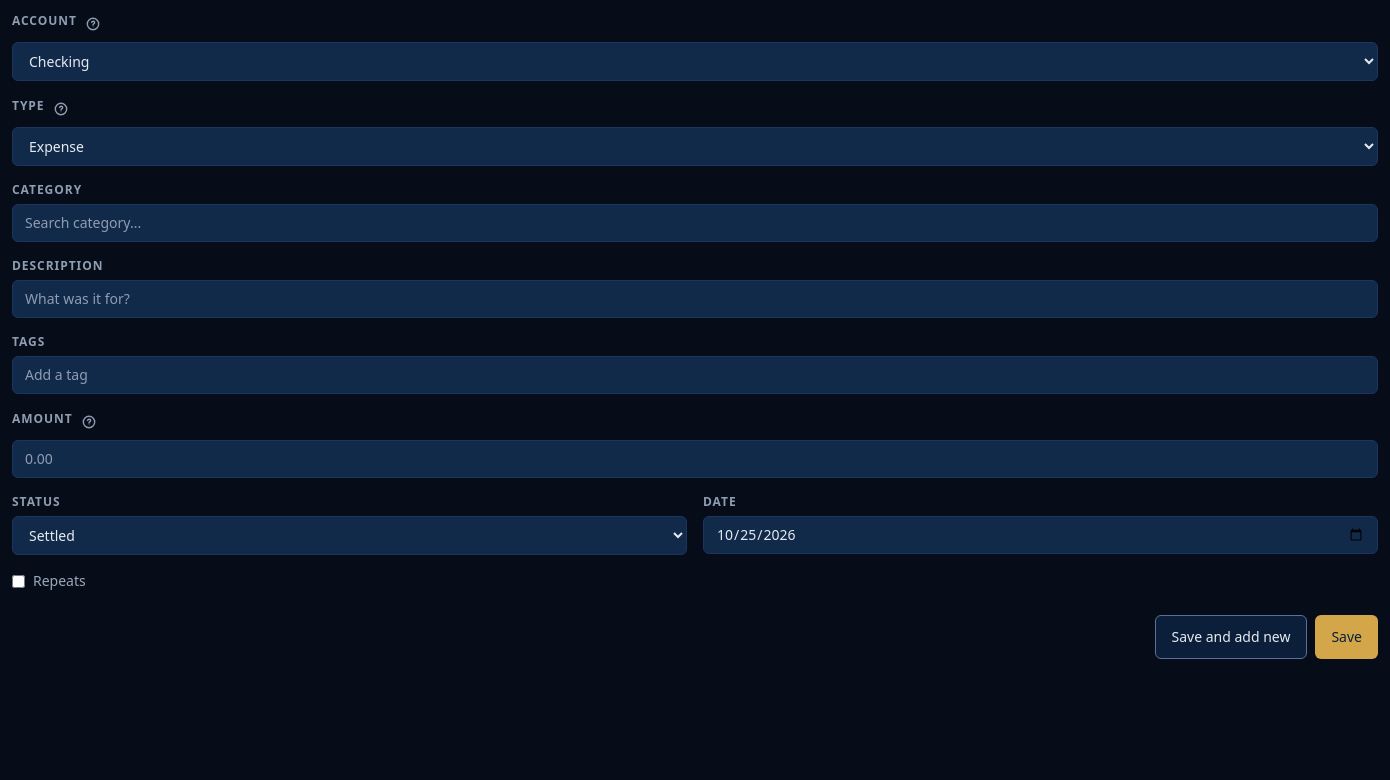
Scenario: TransactionForm › flips status to pending when a credit-card account is selected
Check: the dropdown labelled "Status" shows "Settled", box [12,516,687,555]
Select "Visa" in the dropdown labelled "Account": (695, 62) [12,42,1378,81]
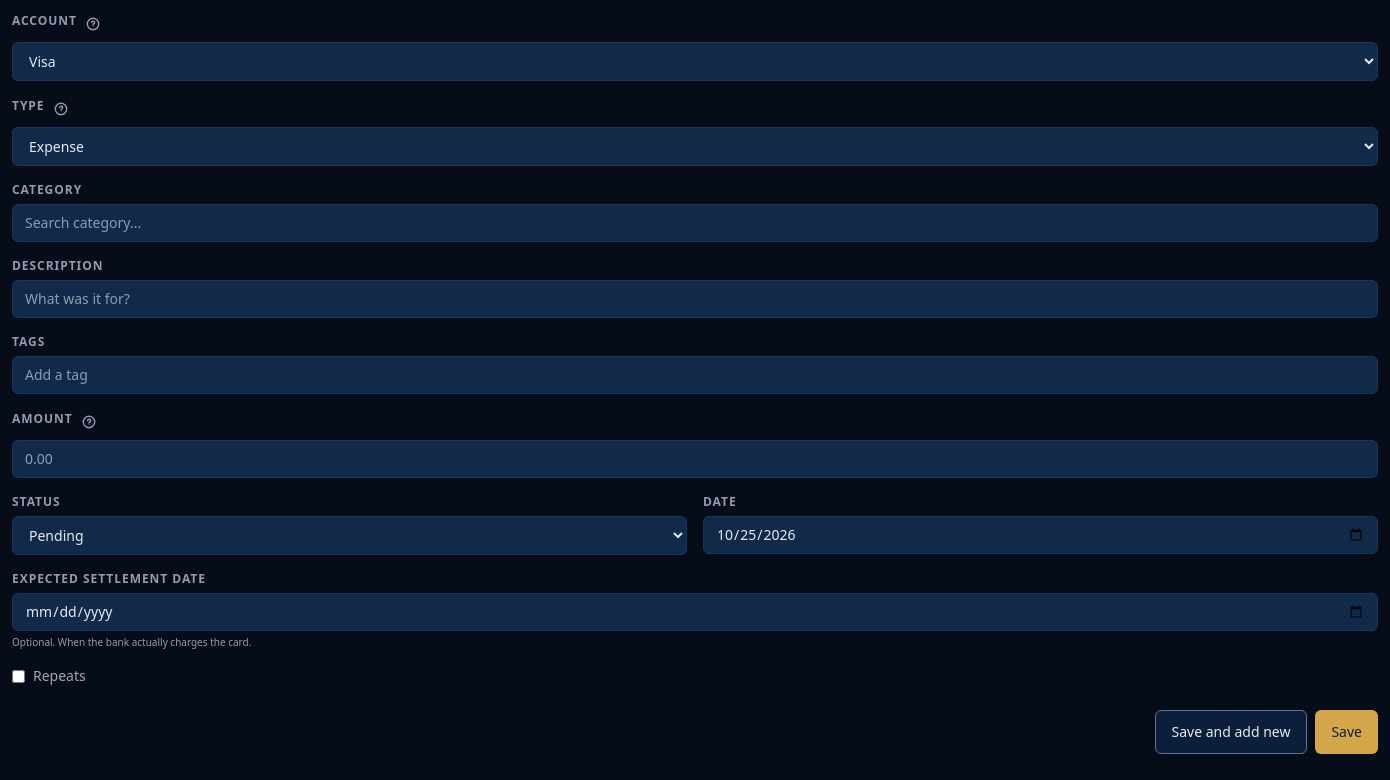
Check: the dropdown labelled "Status" shows "Pending", box [12,516,687,555]
